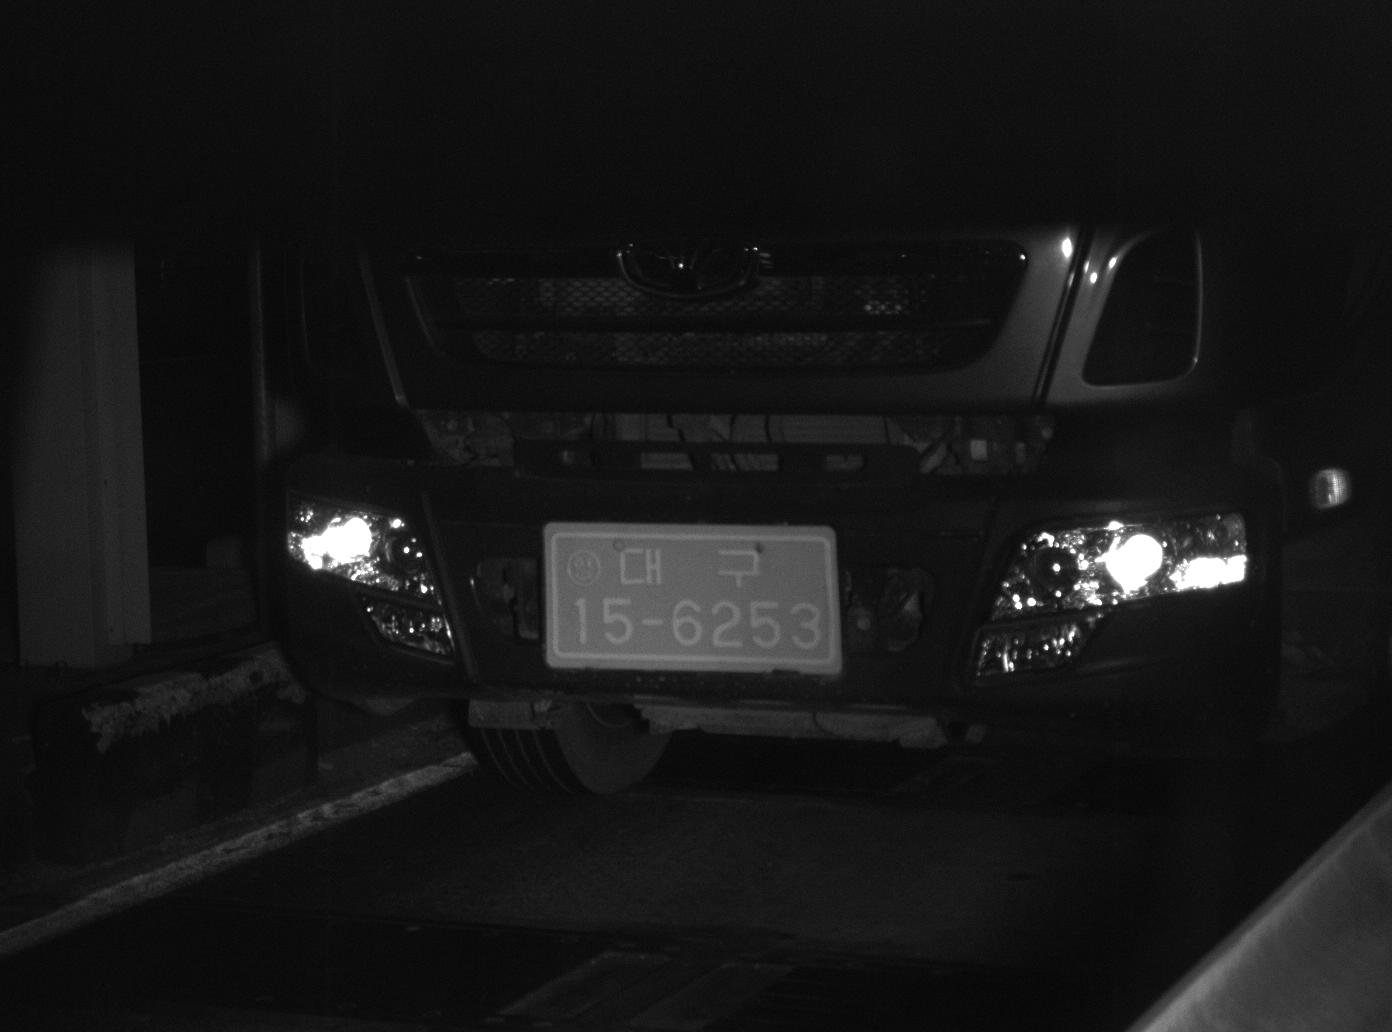car: (245, 224, 1392, 797)
plate: (542, 523, 842, 674)
